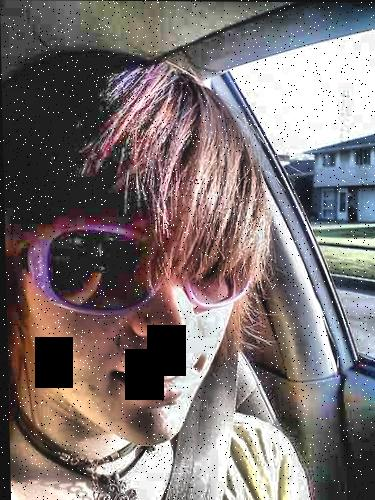seatbelt: (165, 263, 249, 491)
